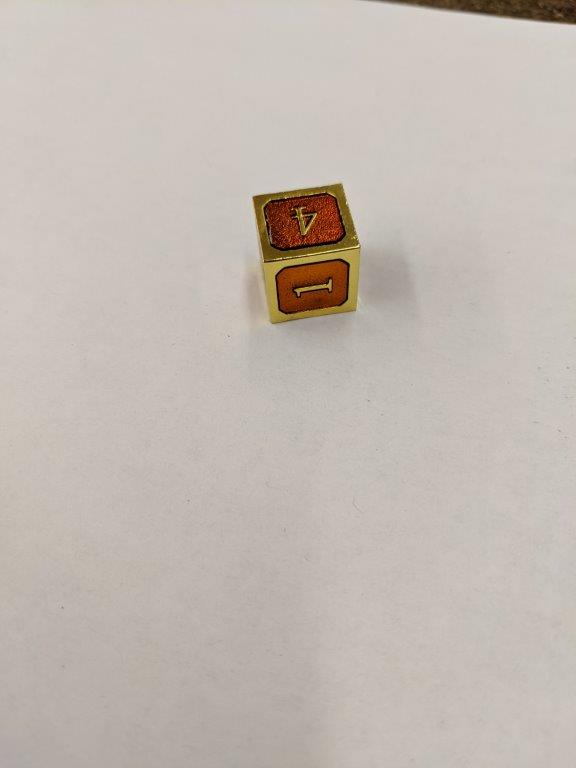d6-4: (251, 178, 360, 328)
